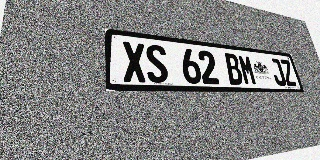2: (197, 50, 219, 84)
6: (180, 48, 203, 84)
B: (223, 53, 244, 85)
J: (268, 58, 287, 86)
M: (237, 54, 258, 85)
S: (145, 44, 169, 83)
X: (122, 41, 147, 83)
Z: (279, 59, 297, 86)
